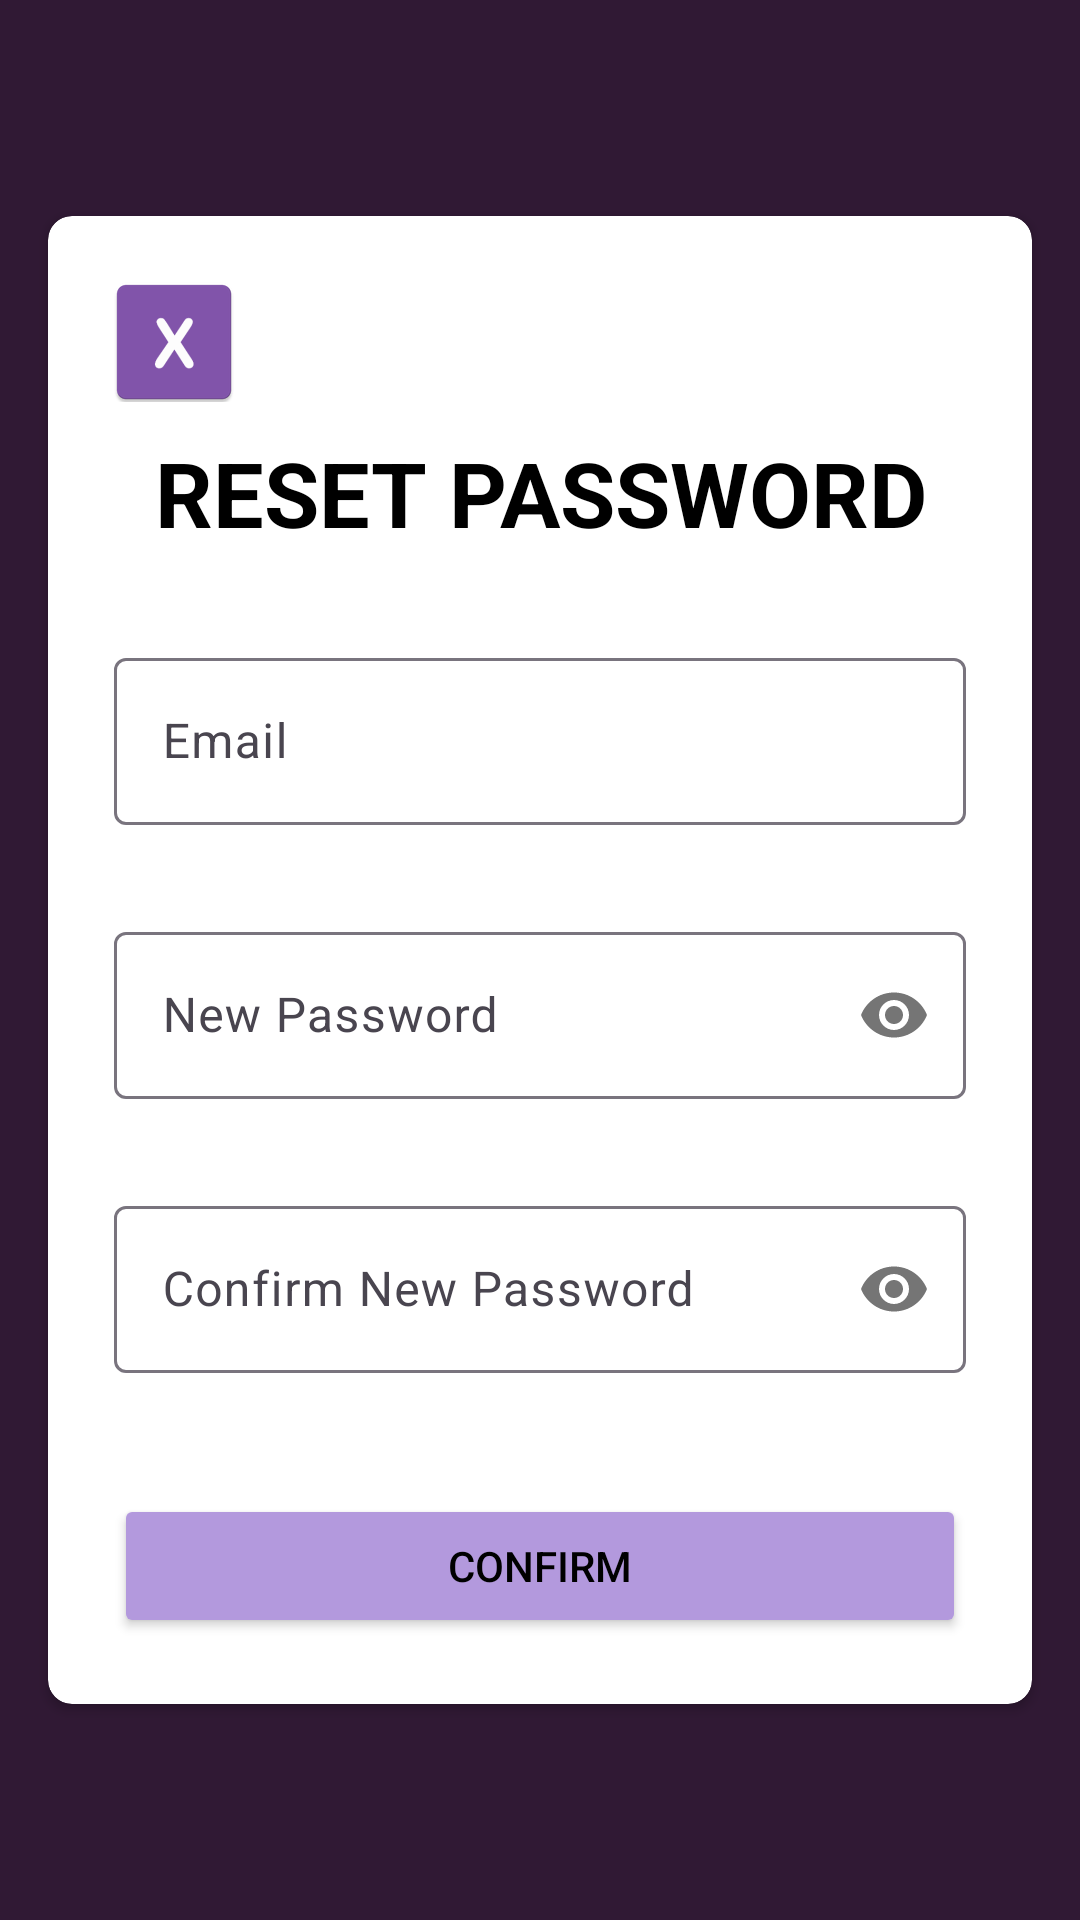

Icons on this 1080*1920 Android screen, each with its box as (x1, y1, x2, y2):
A button to return to previous page: (116, 285, 232, 402)
